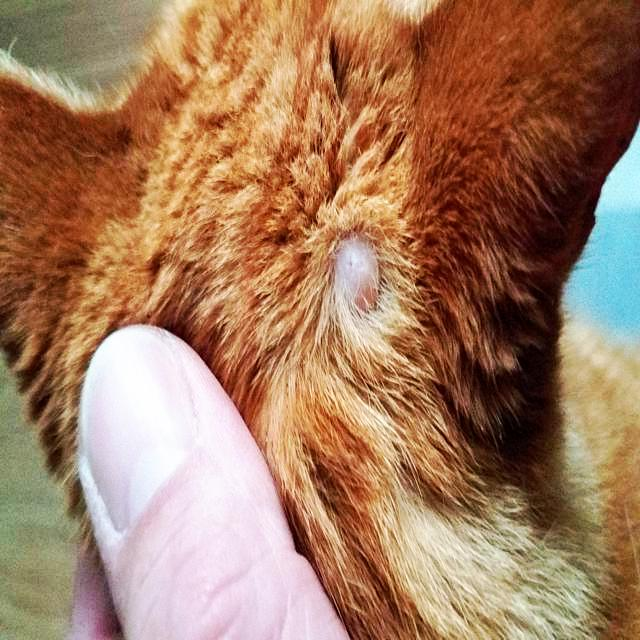lump_and_bump: (330, 231, 390, 320)
